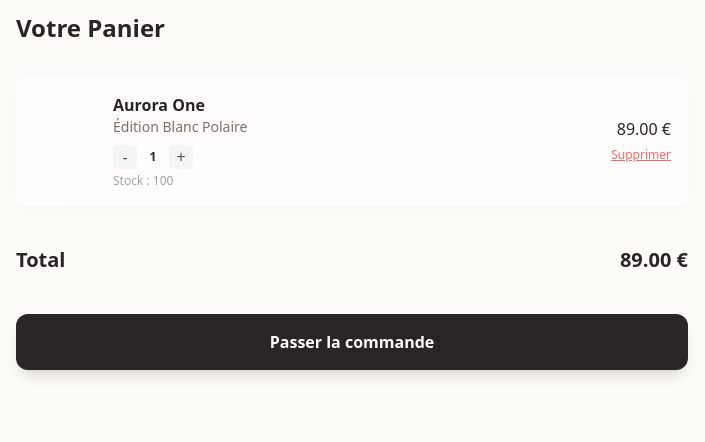
pages/cart.vue › cart with items › clicking the order button transitions to delivery step
This screenshot has width=705, height=442.
Click the button "Passer la commande" at {"x": 352, "y": 342}, box [16,314,688,370]
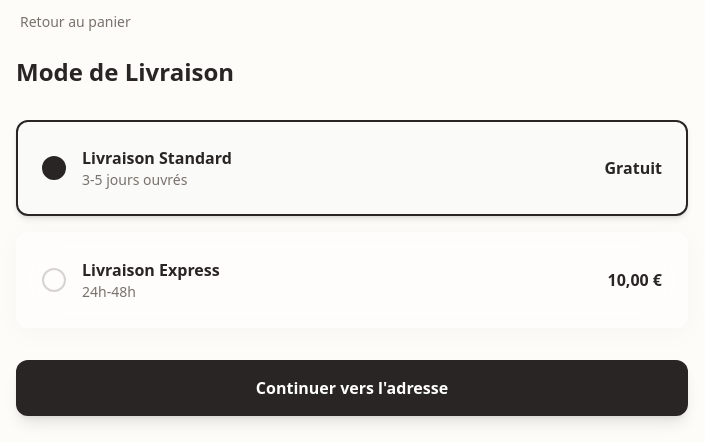
Check: the text "Mode de Livraison" is shown, box [16,55,234,88]
